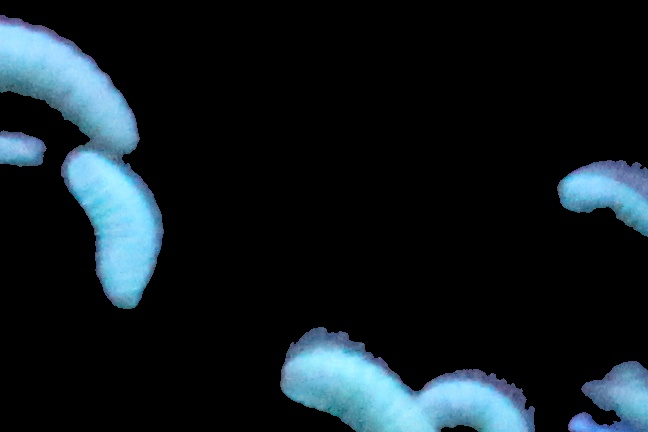larvae: (60, 143, 166, 311), (1, 25, 137, 154), (279, 334, 431, 432), (417, 364, 539, 432), (547, 164, 648, 245), (1, 132, 46, 172)
